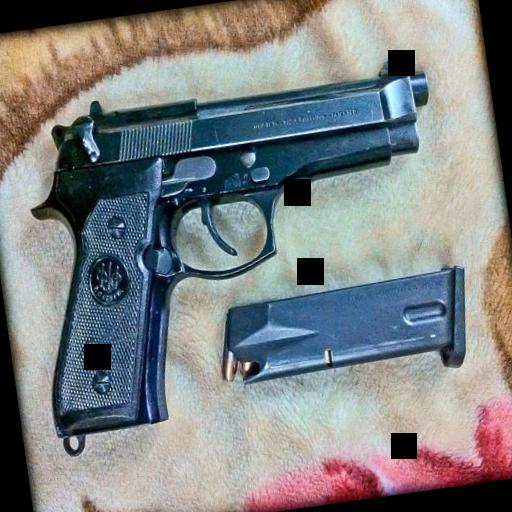Handgun: (10, 52, 472, 454)
